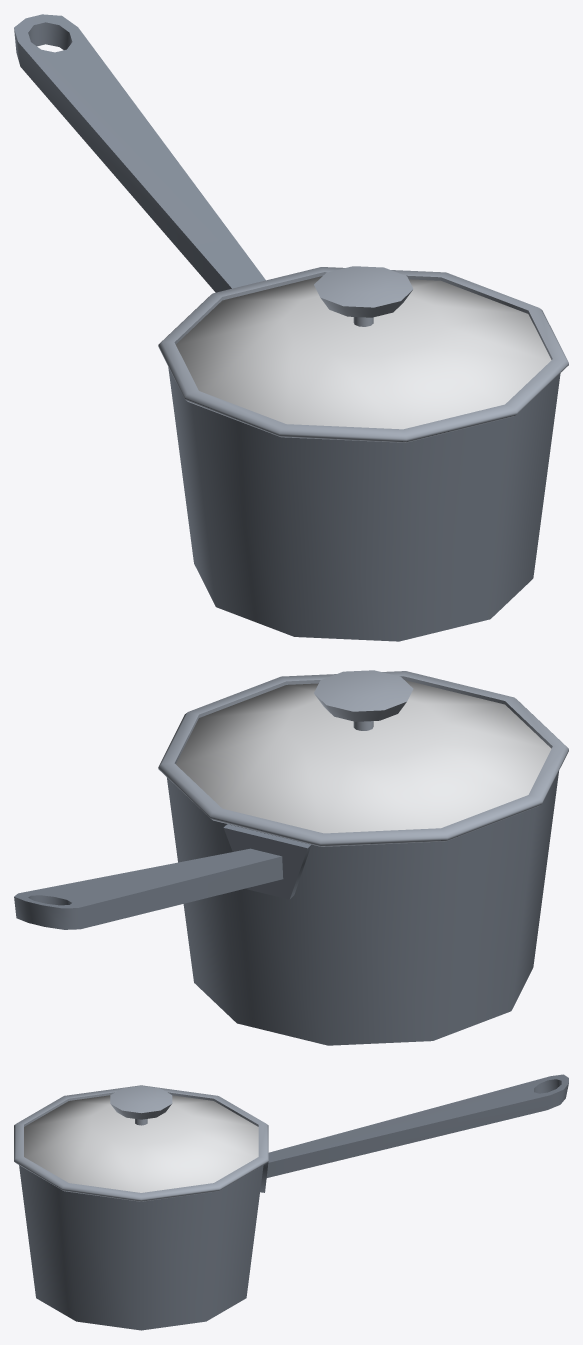
The model's file is pan_sauce_pan_small_001.glb.
3 renders of one model, top to bottom at view 1: azimuth 30°, elevation 25°; view 2: azimuth 150°, elevation 25°; view 3: azimuth 270°, elevation 25°, orthographic. The views are drawn at different scales.
Visible parts, largest first — view 1: pan_sauce_pan_small.001_Cylinder.075, pan_sauce_pan_small_lid_Cylinder.076; view 2: pan_sauce_pan_small.001_Cylinder.075, pan_sauce_pan_small_lid_Cylinder.076; view 3: pan_sauce_pan_small.001_Cylinder.075, pan_sauce_pan_small_lid_Cylinder.076.
Boxes of the visible parts, x1=… form: pan_sauce_pan_small.001_Cylinder.075: x1=14, y1=14, x2=560, y2=641; pan_sauce_pan_small_lid_Cylinder.076: x1=158, y1=266, x2=568, y2=442; pan_sauce_pan_small.001_Cylinder.075: x1=14, y1=771, x2=558, y2=1045; pan_sauce_pan_small_lid_Cylinder.076: x1=158, y1=670, x2=568, y2=846; pan_sauce_pan_small.001_Cylinder.075: x1=19, y1=1074, x2=568, y2=1330; pan_sauce_pan_small_lid_Cylinder.076: x1=14, y1=1085, x2=268, y2=1201.
Bounding box in the file's own units: 3.01 × 2.52 × 6.25.
Materials: 2 (2 with a texture image).
